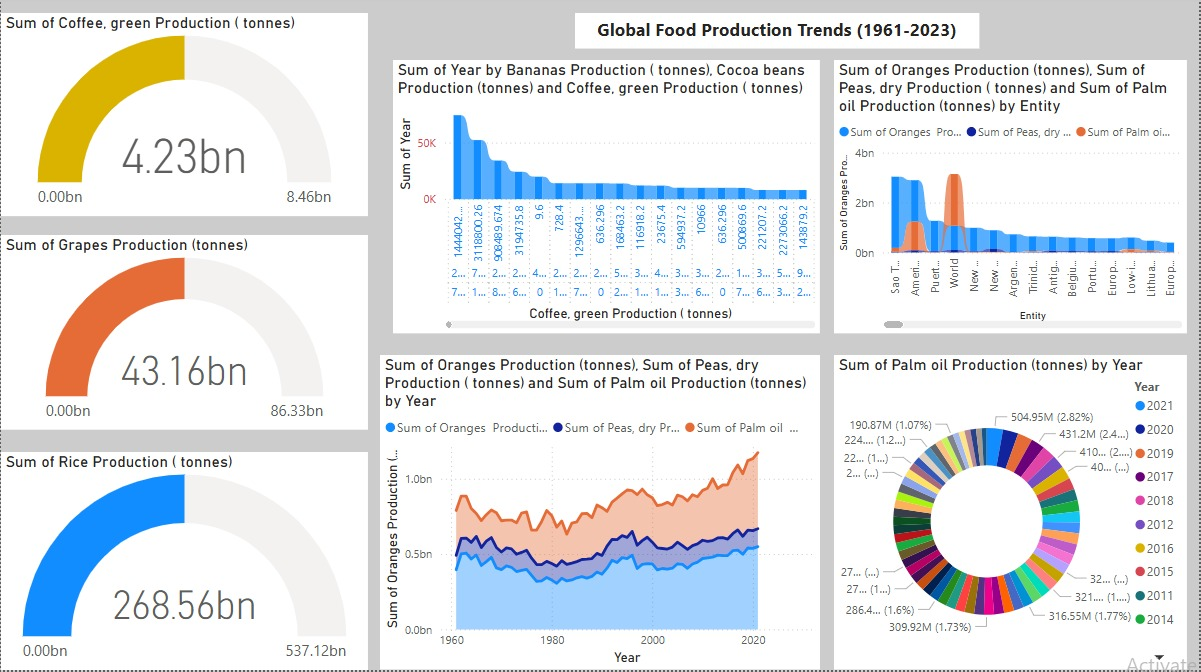

The page's visual inventory and layout, read from the dashboard file:
{"tool":"powerbi","page":{"name":"Page 1","canvas":[1280,720],"ordinal":0},"visuals":[{"type":"ribbonChart","fields":{"Category":["world food production (2).Bananas  Production ( tonnes)","world food production (2).Cocoa beans Production (tonnes)","world food production (2).Coffee, green Production ( tonnes)"],"Y":["Sum(world food production (2).Year)"]},"box":[404.7,18.6,469.8,341.9],"z":0},{"type":"gauge","fields":{"Y":["Sum(world food production (2).Coffee, green Production ( tonnes))"]},"box":[1.2,20.9,391.9,217.4],"z":1000},{"type":"gauge","fields":{"Y":["Sum(world food production (2).Grapes  Production (tonnes))"]},"box":[0,255.8,391.9,209.3],"z":2000},{"type":"stackedAreaChart","fields":{"Category":["world food production (2).Year"],"Y":["Sum(world food production (2).Oranges  Production (tonnes))","Sum(world food production (2).Peas, dry Production ( tonnes))","Sum(world food production (2).Palm oil  Production (tonnes))"]},"box":[411.6,383.7,469.8,336],"z":3000},{"type":"ribbonChart","fields":{"Category":["world food production (2).Entity"],"Y":["Sum(world food production (2).Oranges  Production (tonnes))","Sum(world food production (2).Peas, dry Production ( tonnes))","Sum(world food production (2).Palm oil  Production (tonnes))"]},"box":[888.4,18.6,377.9,341.9],"z":4000},{"type":"gauge","fields":{"Y":["Sum(world food production (2).Rice  Production ( tonnes))"]},"box":[0,487.2,391.9,232.6],"z":5000},{"type":"donutChart","fields":{"Category":["world food production (2).Year"],"Y":["Sum(world food production (2).Palm oil  Production (tonnes))"]},"box":[889.5,383.7,376.7,336],"z":6000}]}

Visuals, with their boxes in screenshot pixels (x1, y1, x2, y2), scaled from the page's 1280x720 canvas onto the 1201x672 screenshot:
ribbonChart - world food production (2).Bananas  Production ( tonnes) x world food production (2).Cocoa beans Production (tonnes): crop(380, 17, 821, 336)
gauge - Sum(world food production (2).Coffee, green Production ( tonnes)): crop(1, 20, 369, 222)
gauge - Sum(world food production (2).Grapes  Production (tonnes)): crop(0, 239, 368, 434)
stackedAreaChart - world food production (2).Year x Sum(world food production (2).Oranges  Production (tonnes)): crop(386, 358, 827, 671)
ribbonChart - world food production (2).Entity x Sum(world food production (2).Oranges  Production (tonnes)): crop(834, 17, 1188, 336)
gauge - Sum(world food production (2).Rice  Production ( tonnes)): crop(0, 455, 368, 671)
donutChart - world food production (2).Year x Sum(world food production (2).Palm oil  Production (tonnes)): crop(835, 358, 1188, 671)
